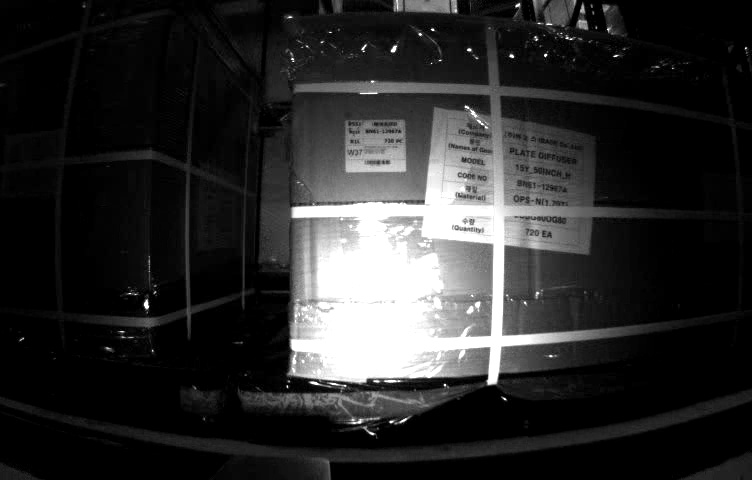True Barcode: (344, 120, 406, 174)
